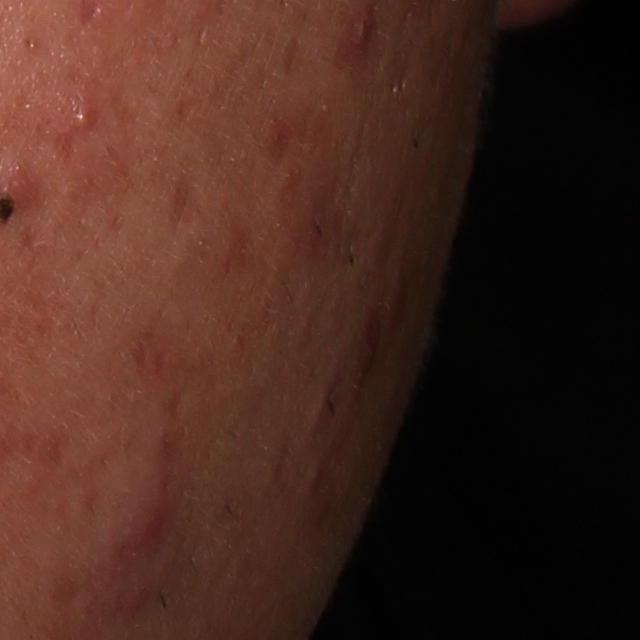comedo: (16, 33, 40, 55)
papule: (111, 477, 178, 563), (348, 1, 385, 51)
pustule: (70, 101, 102, 129)
